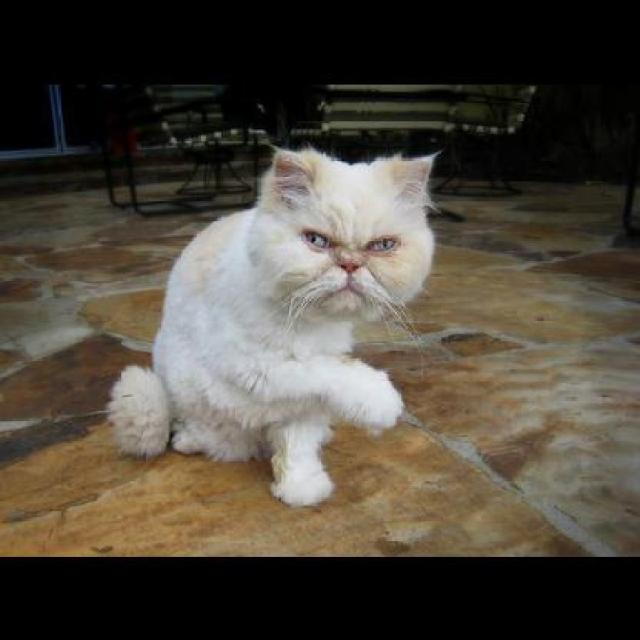unauthorized: (104, 142, 444, 508)
